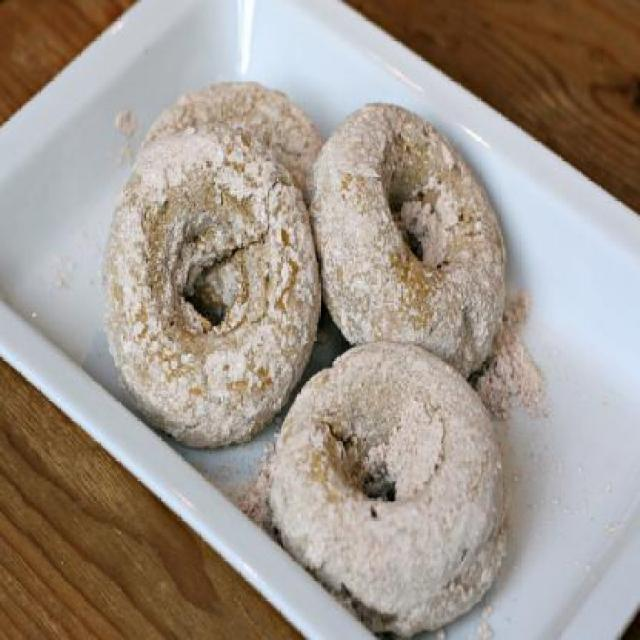Bagel: (100, 128, 326, 450), (268, 336, 504, 622), (308, 99, 504, 384), (153, 78, 327, 206)
